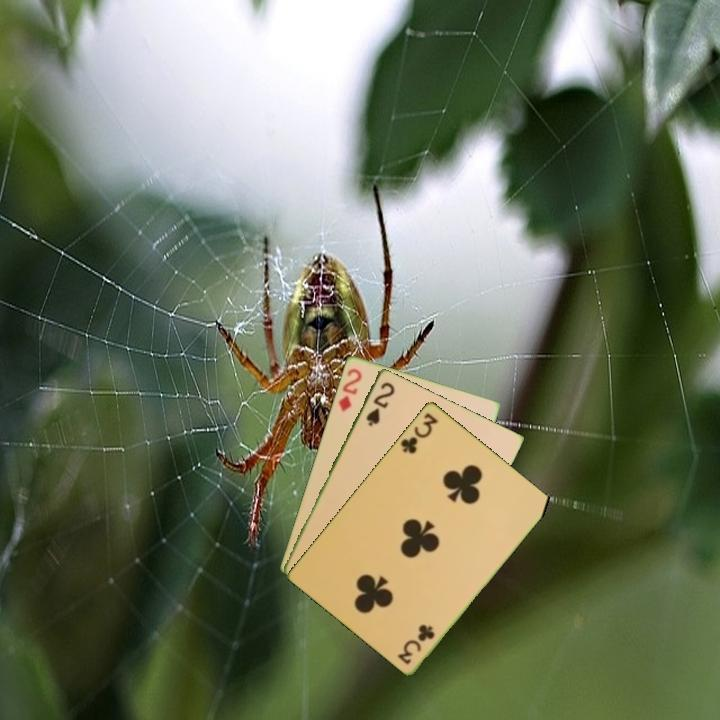2d: (335, 364, 364, 414)
2s: (362, 378, 397, 429)
3c: (397, 409, 441, 456), (395, 620, 438, 667)
